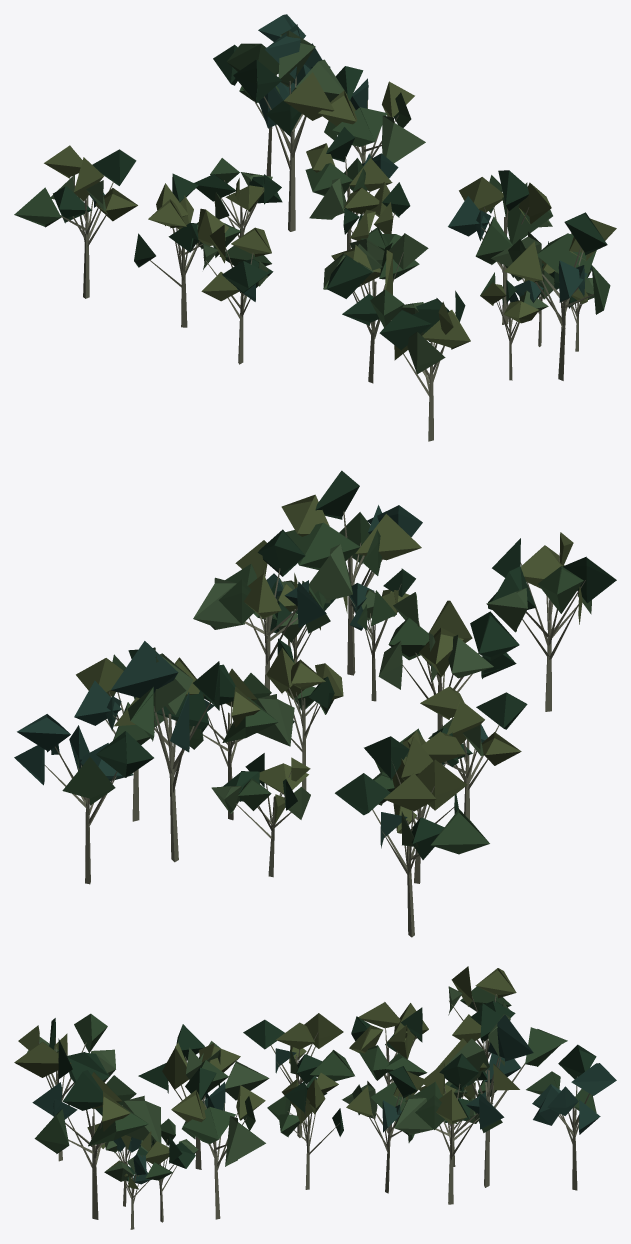
File: forest_26_23.dae
3 renders of one model, top to bottom at view 1: azimuth 30°, elevation 25°; view 2: azimuth 150°, elevation 25°; view 3: azimuth 270°, elevation 25°, orthographic. The views are drawn at different scales.
Parts seen in each view (by area): view 1: Node; view 2: Node; view 3: Node.
Boxes of the visible parts, <box> form: Node: <box>14,14,616,441</box>; Node: <box>14,470,616,937</box>; Node: <box>14,966,616,1229</box>.
Size of the model in its own units: 7.79 by 11.21 by 4.07.
